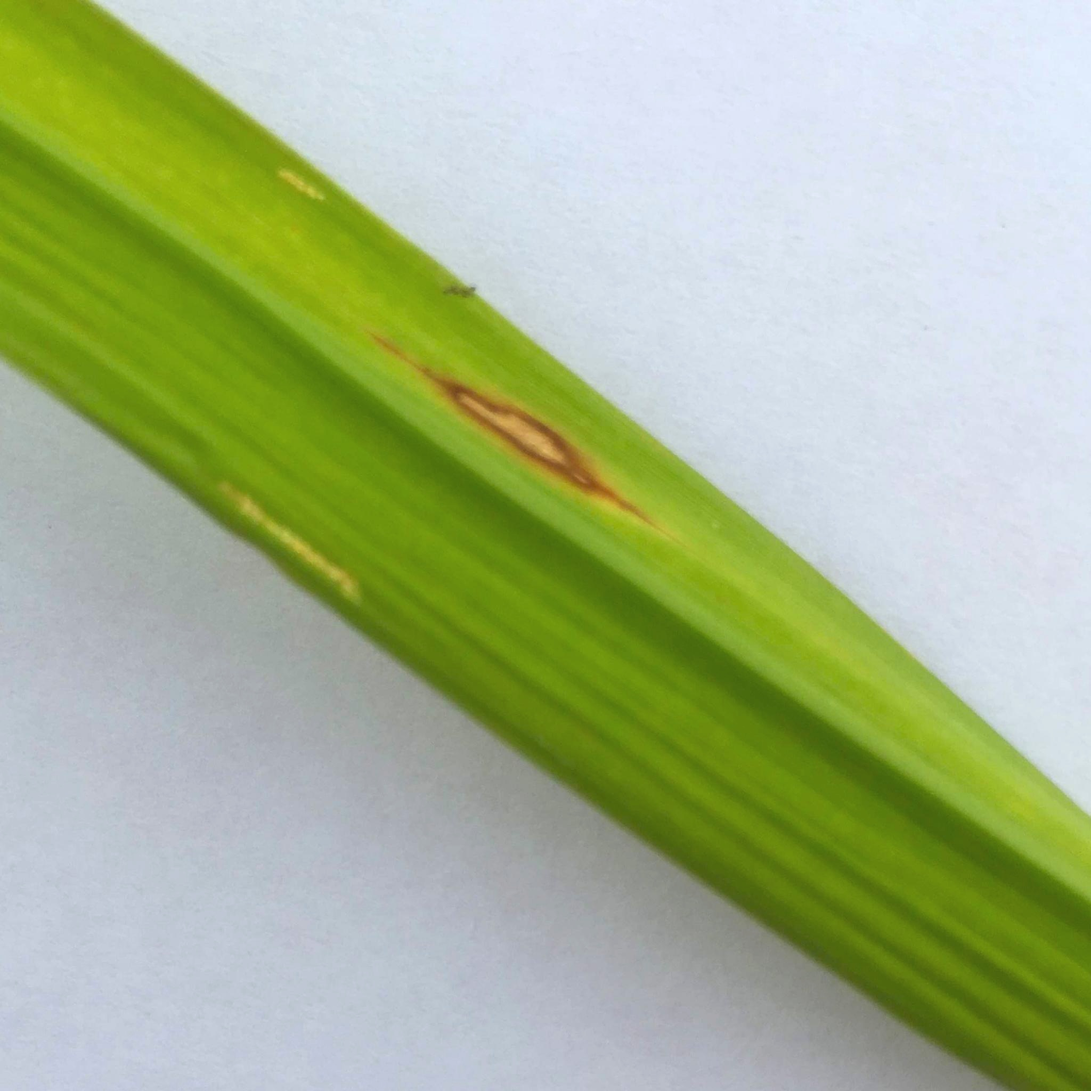Brown_Spot: (363, 322, 652, 525)
